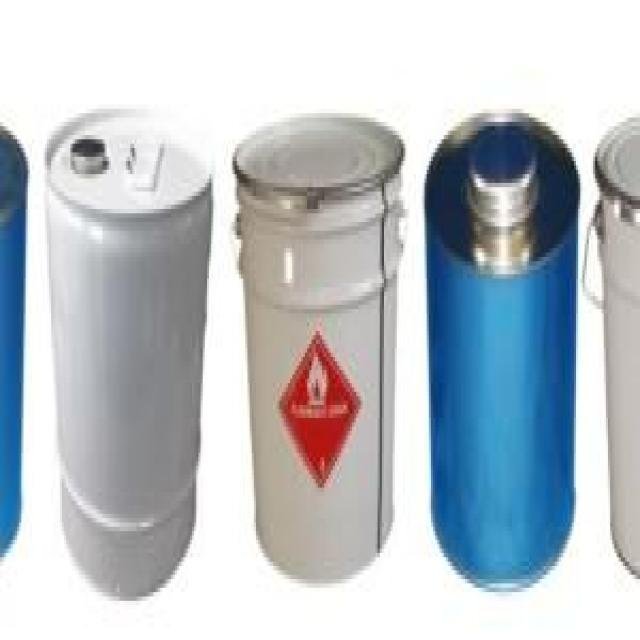metel: (46, 128, 201, 572), (236, 147, 400, 556), (433, 136, 572, 571), (602, 125, 640, 530)
